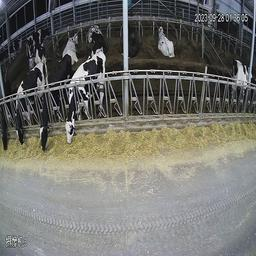cow: (64, 51, 107, 143), (37, 53, 63, 158), (13, 64, 39, 145), (156, 25, 180, 60), (23, 22, 50, 45), (63, 27, 79, 64), (90, 29, 108, 56), (28, 45, 51, 63)
